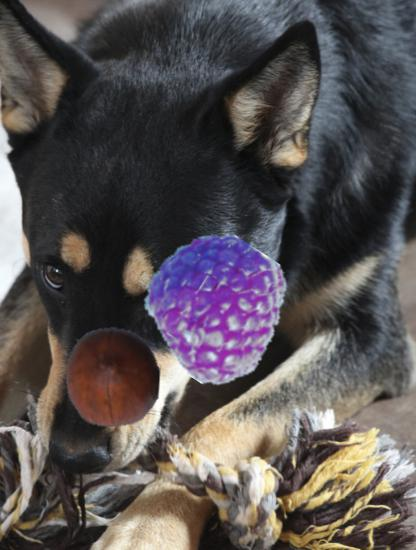Nut: (61, 326, 165, 430)
Raspberry: (144, 236, 288, 380)
